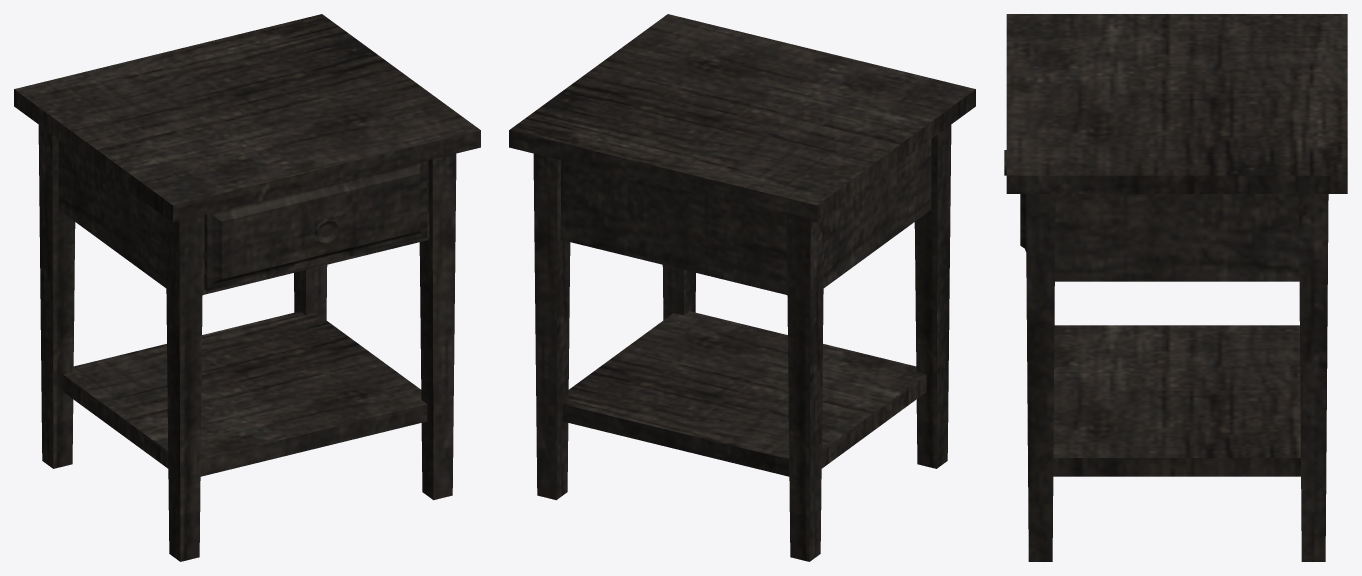
The model's file is bedside_table_1.obj.
The picture shows the model from 3 angles, left to right: view 1: azimuth 30°, elevation 25°; view 2: azimuth 150°, elevation 25°; view 3: azimuth 270°, elevation 25°; orthographic projection. The views are drawn at different scales.
Visible parts, largest first — view 1: bedside_table_1, bedside_table_1_drawer; view 2: bedside_table_1; view 3: bedside_table_1.
Boxes of the visible parts, x1,y1,x2,y2 form: bedside_table_1: (14, 14, 480, 561); bedside_table_1_drawer: (204, 160, 427, 291); bedside_table_1: (509, 14, 975, 561); bedside_table_1: (1006, 14, 1347, 561).
Size of the model in its own units: 0.56 by 0.64 by 0.5035.
